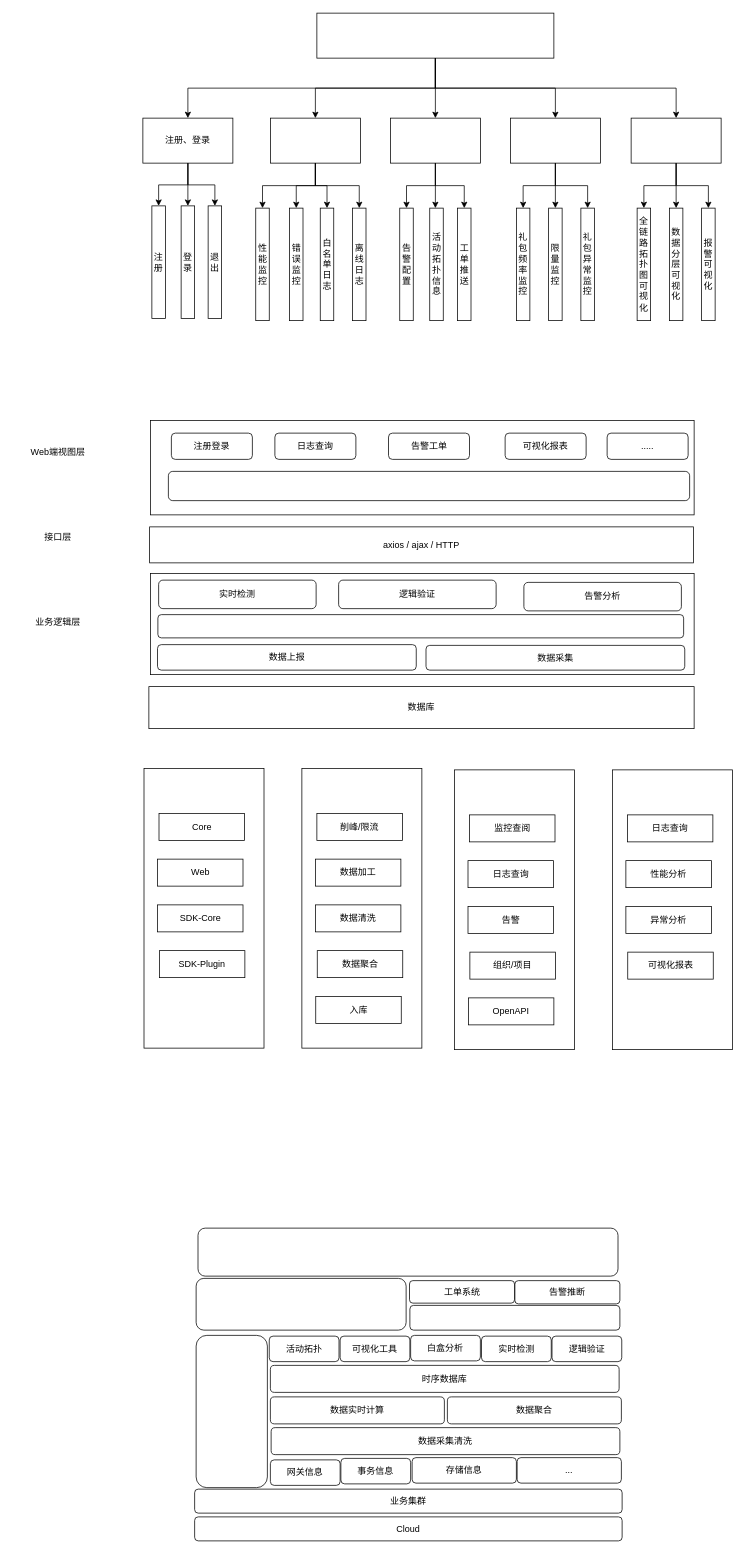
The diagram is 746 pixels wide and 1554 high, and some of its shapes have lost their labels. The box of each missing label's shape, as (x1, y1, x2, y2) in pixels:
Vue / Vue Router / Vuex / Element UI / GoJs: (168, 471, 690, 501)
前端监控: (270, 117, 360, 163)
前端监控SDK: (195, 1278, 406, 1330)
告警总线: (409, 1305, 620, 1330)
平台服务: (454, 769, 574, 1050)
应用层: (143, 768, 264, 1048)
接入层: (301, 768, 422, 1048)
数据可视化: (630, 117, 721, 163)
数据聚合、计算: (157, 614, 684, 638)
日志系统: (195, 1335, 267, 1488)
监控平台: (612, 769, 732, 1050)
监控管理端: (197, 1227, 618, 1276)
礼包监控: (510, 117, 600, 163)
系统监控: (390, 117, 480, 163)
魔镜监控系统: (316, 12, 554, 58)
